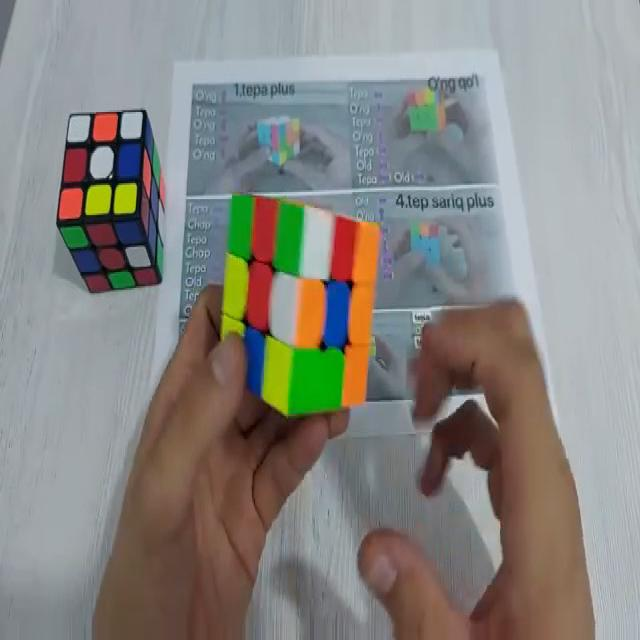Rub: (218, 189, 377, 417), (58, 103, 166, 296)
